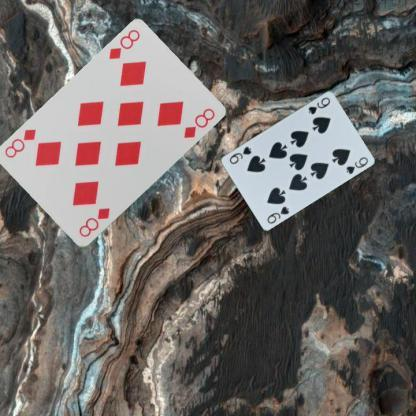8d: (76, 205, 112, 239), (106, 27, 142, 61)
9s: (306, 94, 332, 116), (264, 203, 290, 225)
